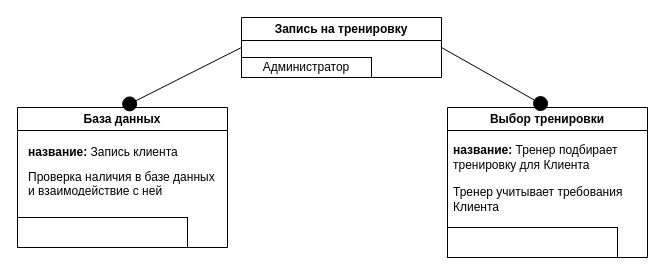
This 665x275 diagram has some shape labels left out. Each missing label, with the centre of its shape:
процесс взаимодействия Администратора и Клиента: the point at 102,232
процесс взаимодействия Тренера и Клиента: the point at 532,242
